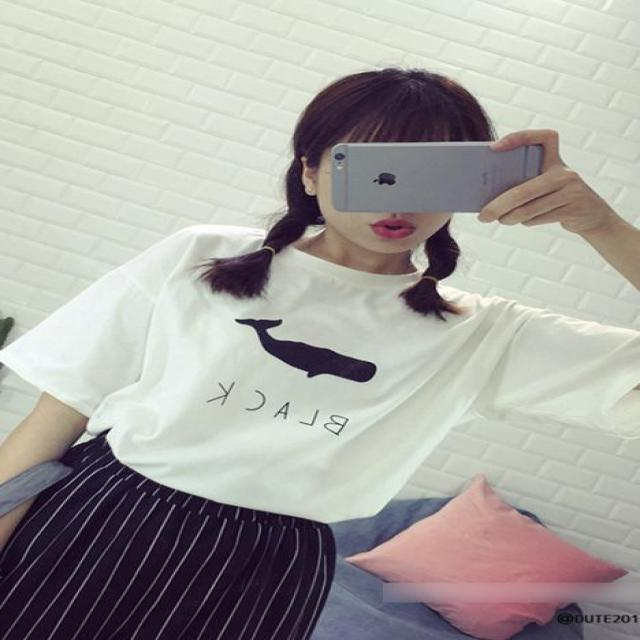short sleeve top: (3, 227, 639, 526)
trousers: (3, 438, 330, 637)
